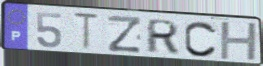5: (35, 11, 64, 49)
C: (183, 20, 219, 59)
H: (218, 21, 259, 62)
R: (145, 18, 181, 55)
T: (71, 11, 102, 53)
Z: (106, 14, 143, 54)
